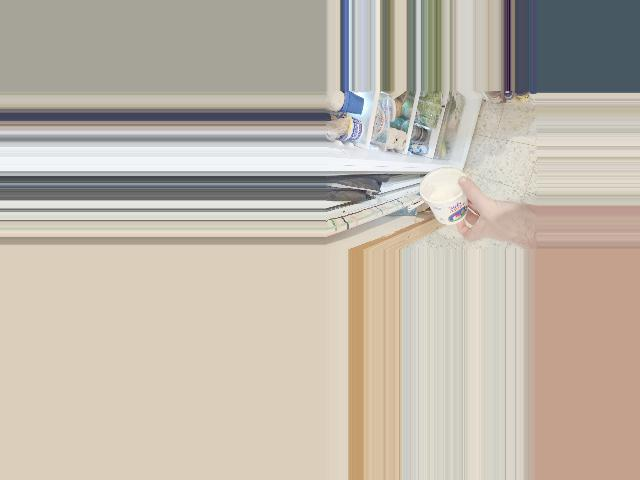cotage: (424, 169, 469, 224)
